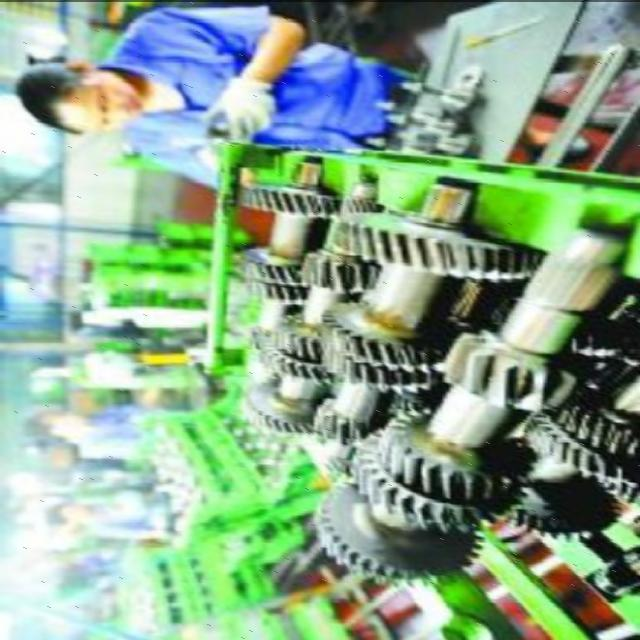Gear: (313, 474, 484, 584), (378, 404, 534, 501), (349, 428, 493, 533), (332, 208, 540, 278), (441, 331, 580, 412), (318, 301, 444, 371), (525, 412, 640, 482), (318, 340, 446, 392), (556, 395, 640, 461), (242, 376, 320, 434), (235, 180, 342, 218), (300, 247, 377, 294), (233, 246, 311, 282), (312, 398, 372, 444), (258, 343, 325, 379), (240, 278, 312, 302), (275, 326, 322, 361)
